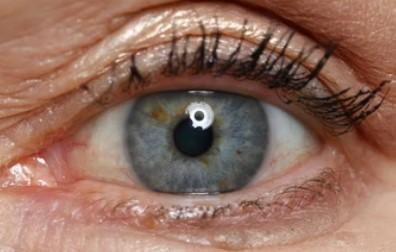eye: (124, 92, 270, 194)
